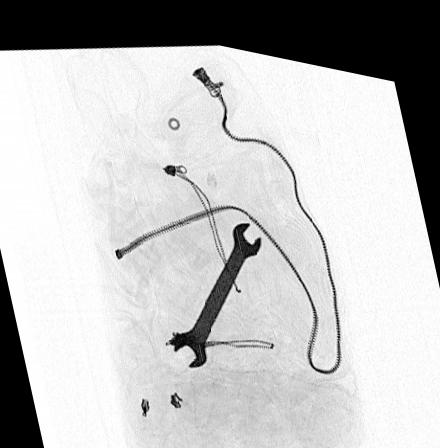Wrench: (168, 211, 260, 360)
